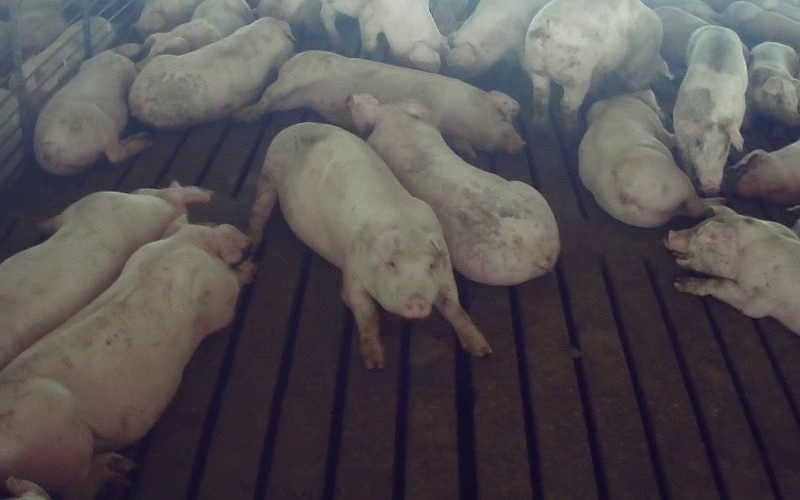pig: (0, 216, 253, 499), (249, 123, 490, 367), (0, 183, 210, 368), (236, 50, 523, 158), (579, 90, 724, 227), (523, 0, 669, 127), (129, 18, 293, 127), (664, 205, 799, 334), (33, 44, 149, 174), (673, 25, 747, 194), (321, 0, 445, 71), (747, 42, 799, 125), (734, 140, 799, 202)
